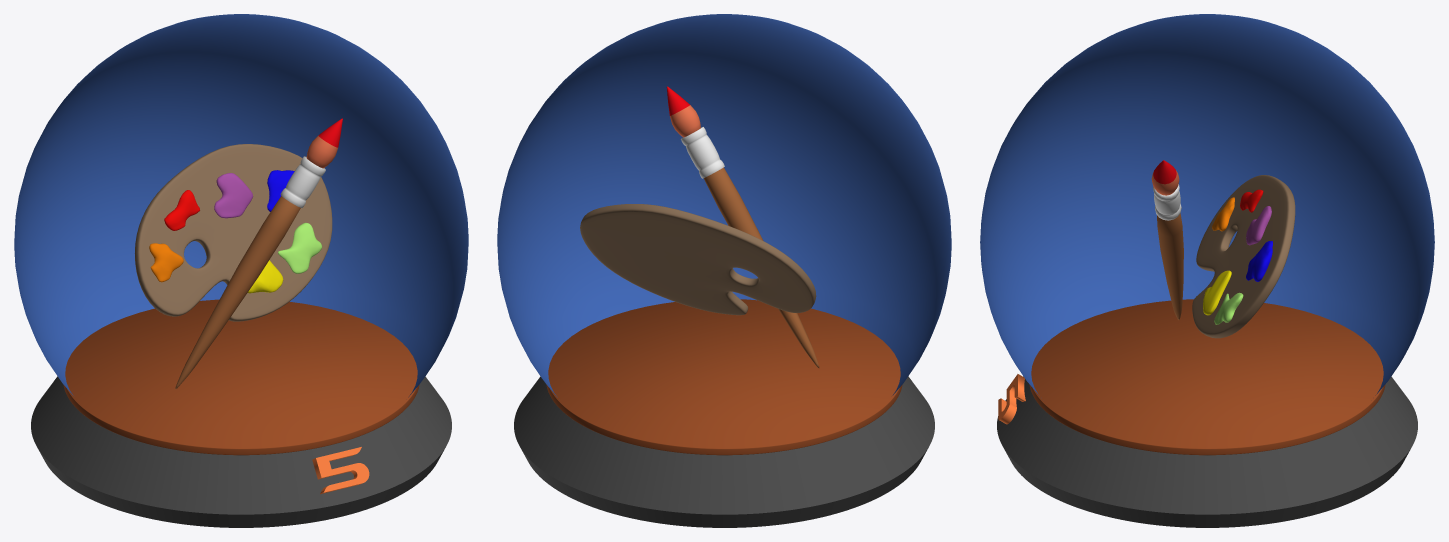
File: Curio_05.glb
3 renders of one model, left to right at view 1: azimuth 30°, elevation 25°; view 2: azimuth 150°, elevation 25°; view 3: azimuth 270°, elevation 25°, orthographic.
Parts seen in each view (by area): view 1: Sphere.020, Sphere.019, Sphere.018, Plane.007, Cylinder.030, Text.010; view 2: Sphere.020, Sphere.019, Sphere.018, Plane.007, Cylinder.030; view 3: Sphere.020, Sphere.019, Sphere.018, Plane.007, Cylinder.030, Text.010.
Part boxes in pixels (x1,y1,x2,y2): Sphere.020: (14,14,468,397); Sphere.019: (63,299,419,455); Sphere.018: (31,376,451,527); Plane.007: (134,144,332,321); Cylinder.030: (175,118,342,389); Text.010: (312,447,369,494); Sphere.020: (497,14,951,397); Sphere.019: (546,299,902,455); Sphere.018: (514,376,934,527); Plane.007: (580,204,816,315); Cylinder.030: (666,86,819,368); Sphere.020: (980,14,1434,395); Sphere.019: (1029,299,1385,455); Sphere.018: (997,376,1417,527); Plane.007: (1192,175,1295,338); Cylinder.030: (1151,160,1183,319); Text.010: (998,374,1025,424).
Size of the model in its own units: 4.66 by 4.62 by 4.66.
